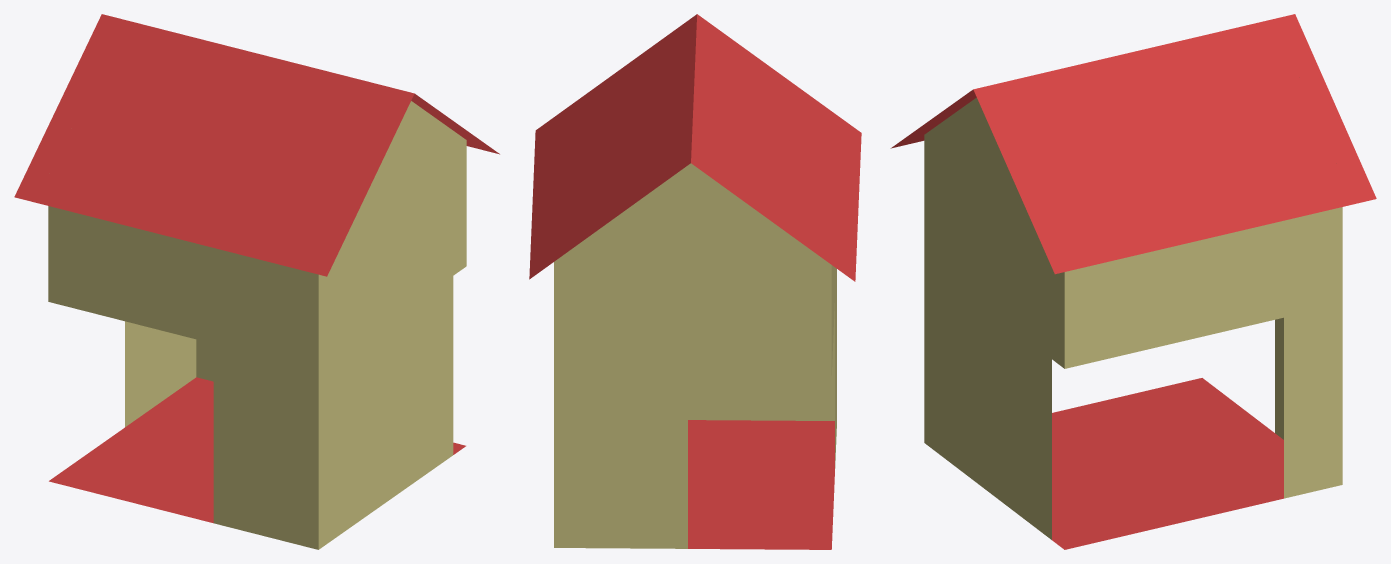
The picture shows the model from 3 angles, left to right: view 1: azimuth 30°, elevation 25°; view 2: azimuth 150°, elevation 25°; view 3: azimuth 270°, elevation 25°; orthographic projection. The views are drawn at different scales.
Size of the model in its own units: 14.23 by 14.56 by 13.62.
